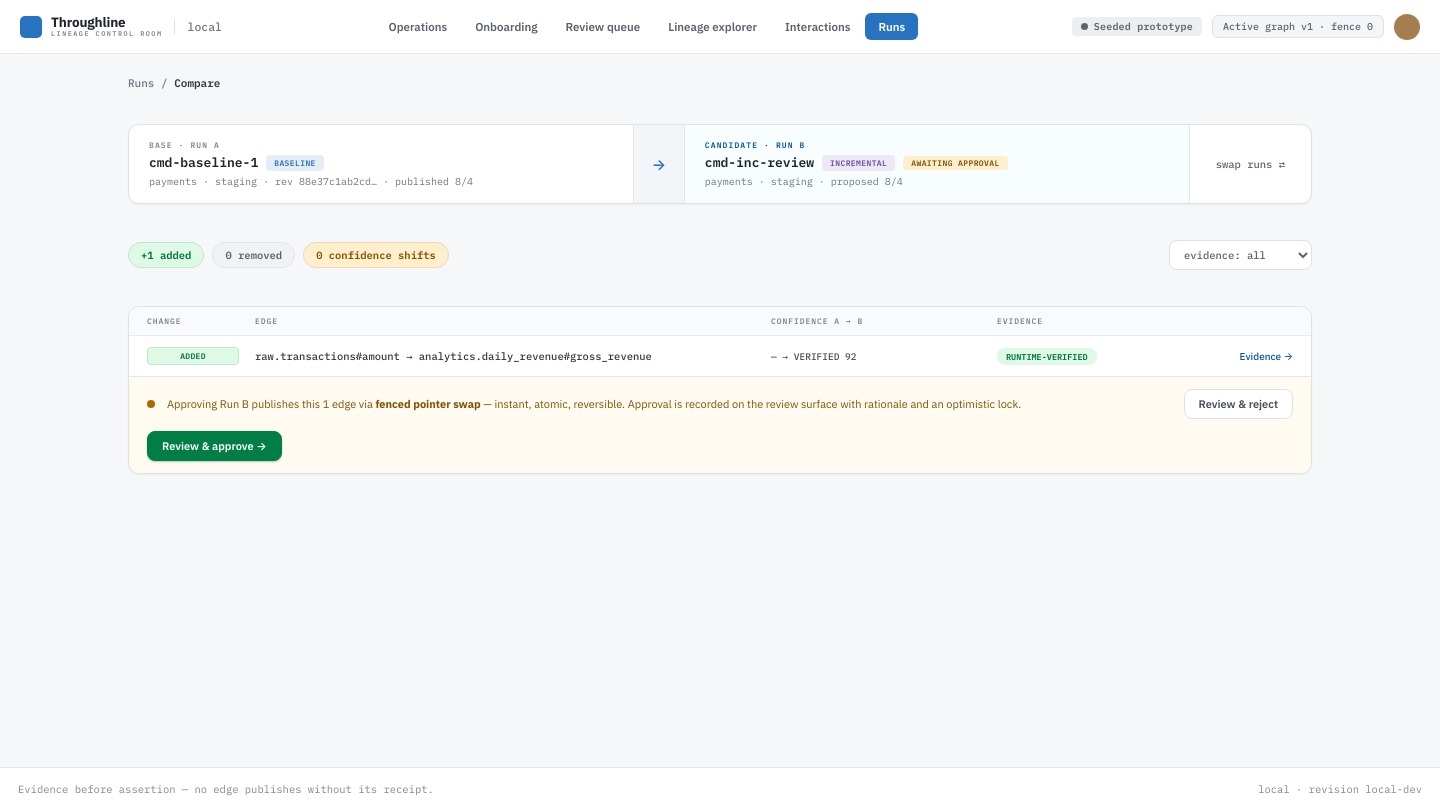
Test case: delta chips act as filters on the diff table
Check: the text "ADDED" is shown, box [147, 347, 239, 365]
Click the button "0 removed" at x=254, y=255, box [212, 242, 295, 268]
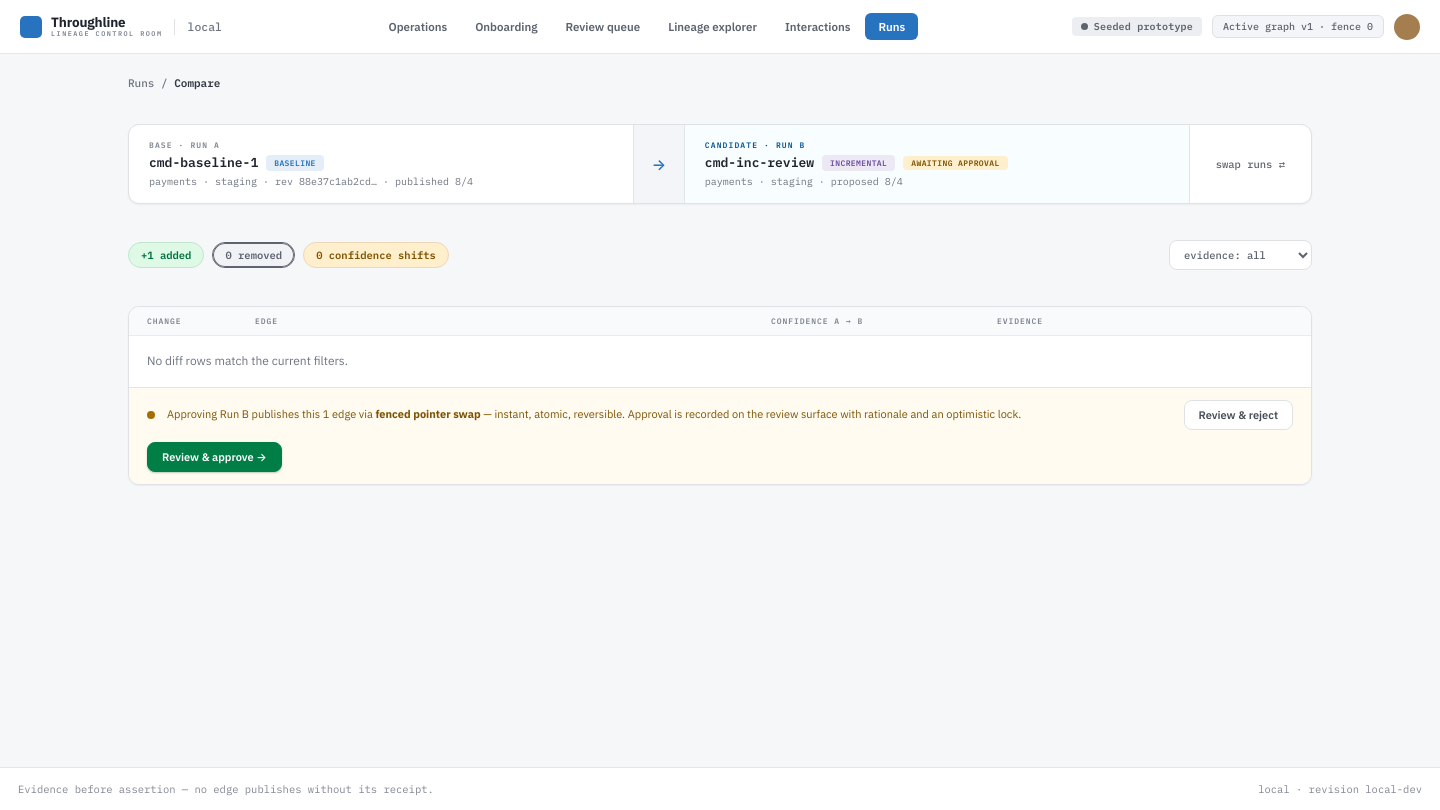
Check: the text "No diff rows match the current filters." is shown, box [147, 353, 348, 368]
Clicking again clears the filter.
Click the button "0 removed" at x=254, y=255, box [212, 242, 295, 268]
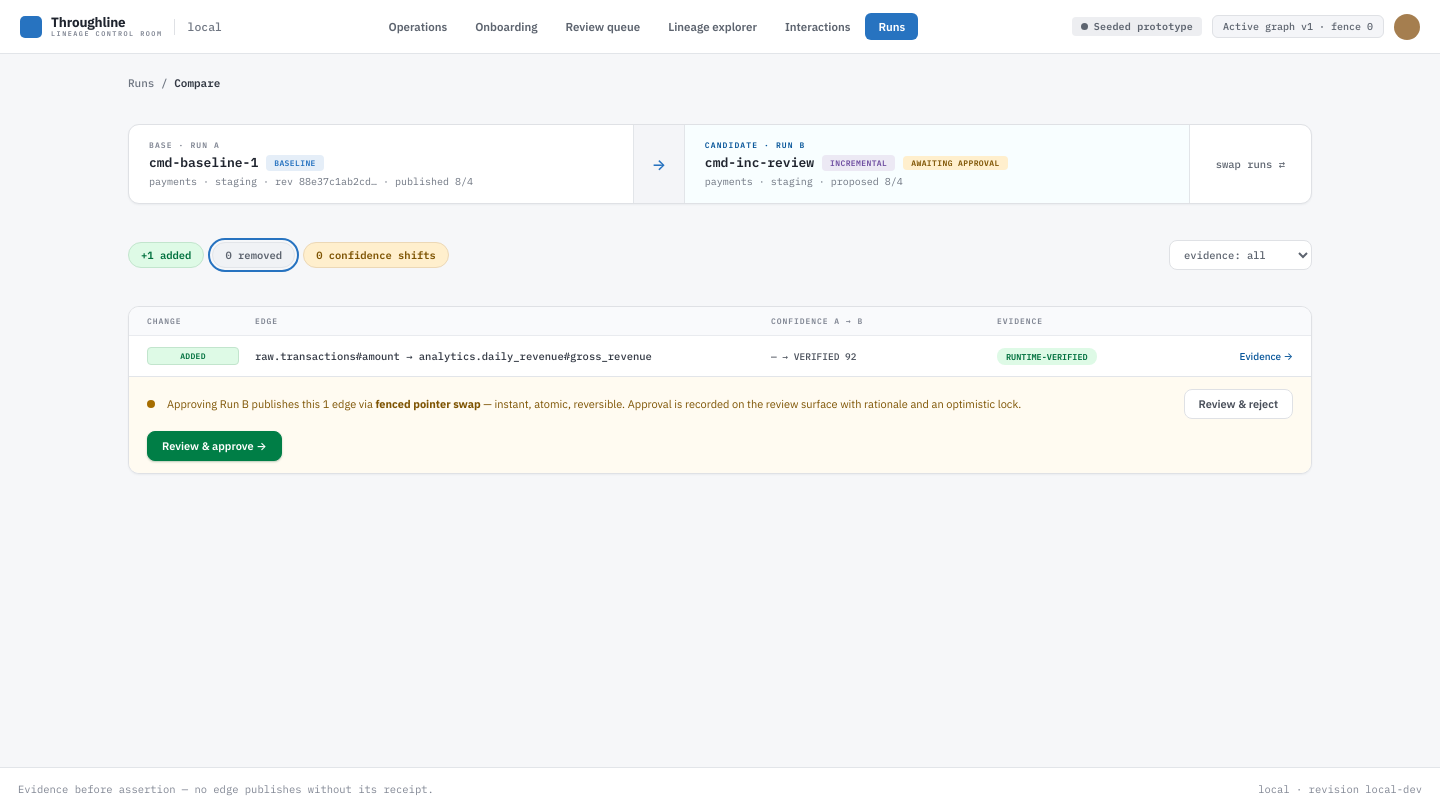
Check: the text "ADDED" is shown, box [147, 347, 239, 365]
